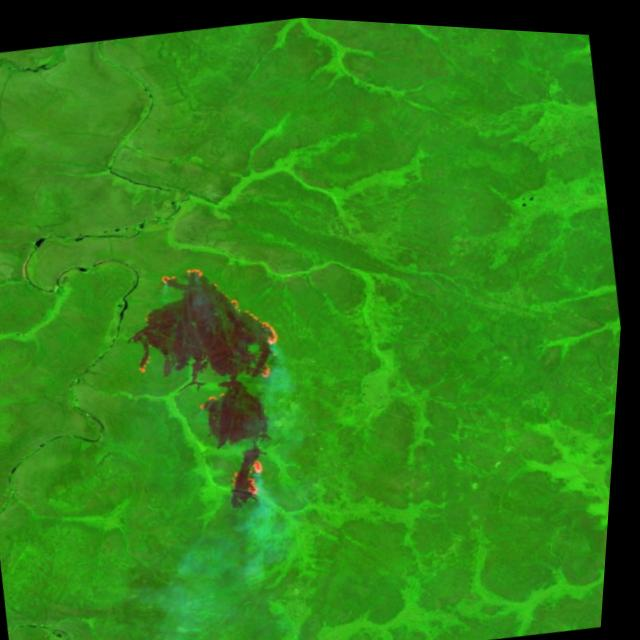fire: (116, 246, 317, 513)
